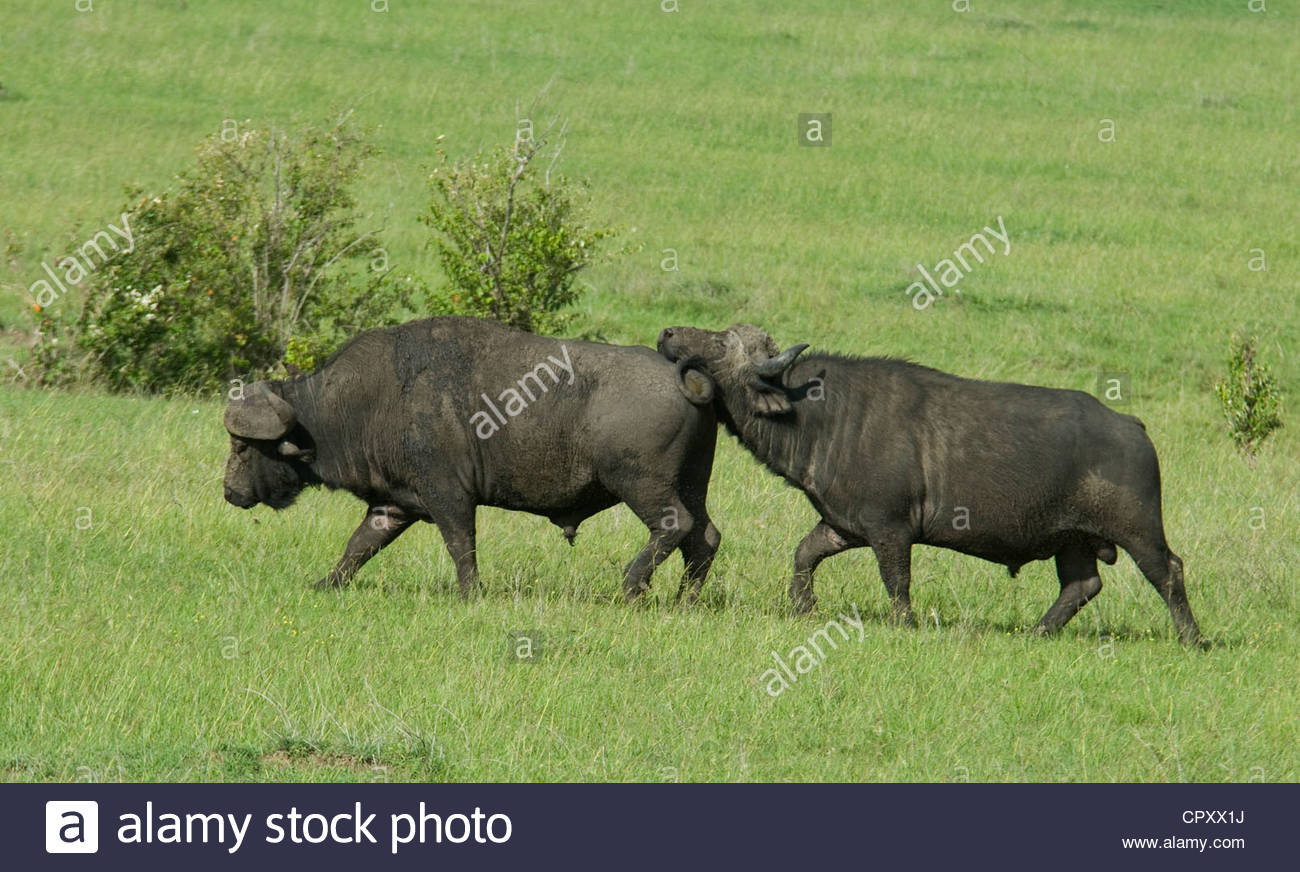bison: (657, 315, 1204, 647), (216, 311, 727, 615)
